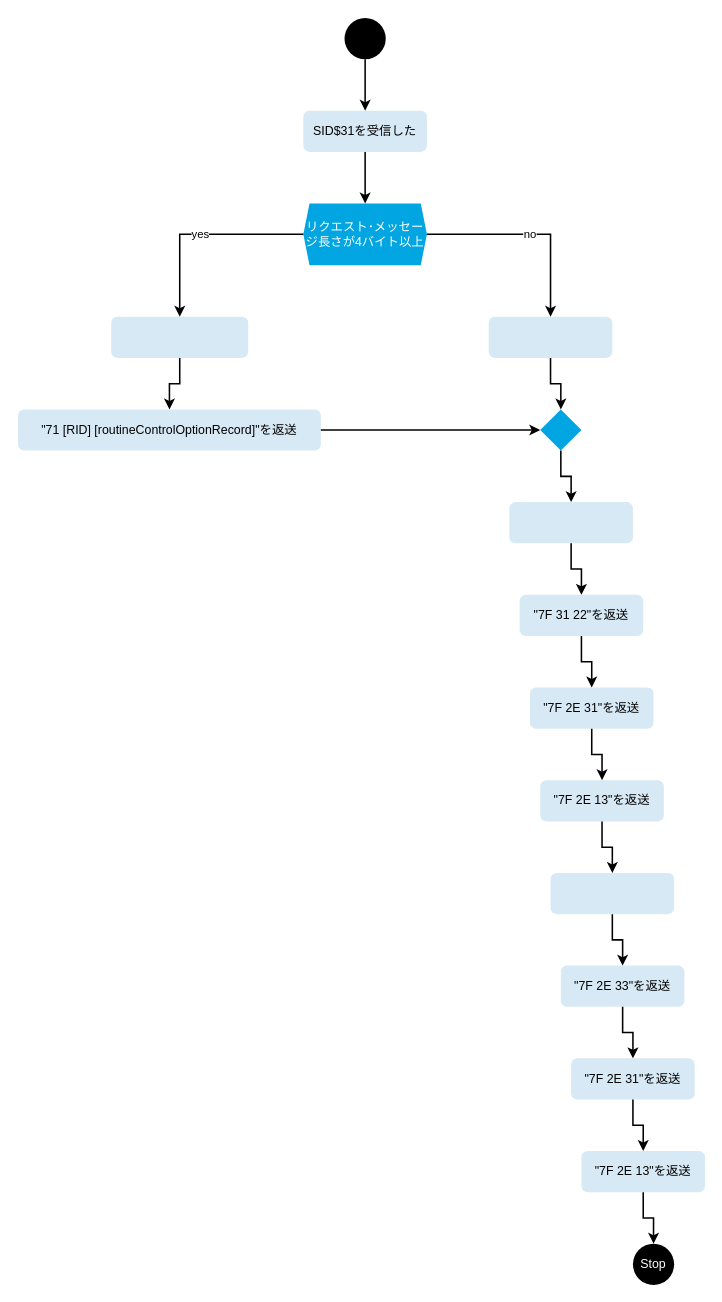
Image size: 722x1302. Some labels were removed from this diagram. Each missing label, with the centre of its shape:
"7F 2E 12"を返送: pixel 612 893
"7F 31 24"を返送: pixel 570 522
"7F 31 72"を返送: pixel 550 336
ECU は要求された書き込み処理を実行: pixel 179 336
Start: pixel 364 38
